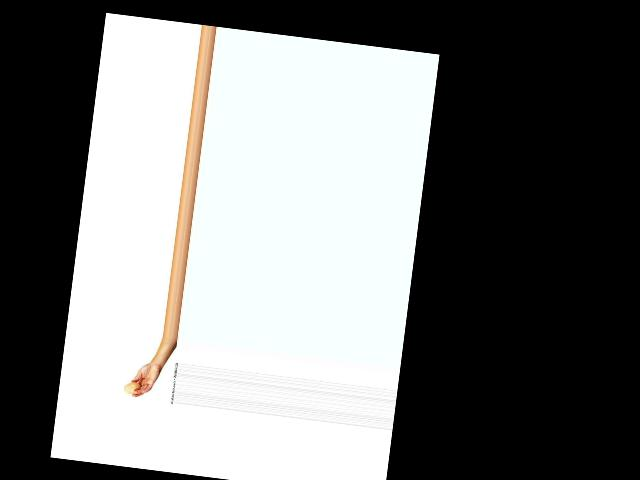egg: (123, 380, 141, 394)
